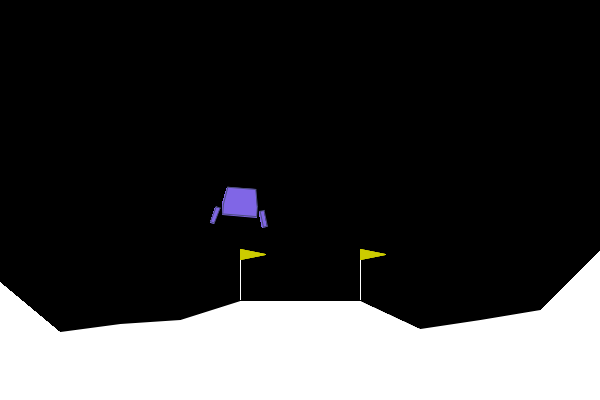lander: (208, 184, 271, 229)
